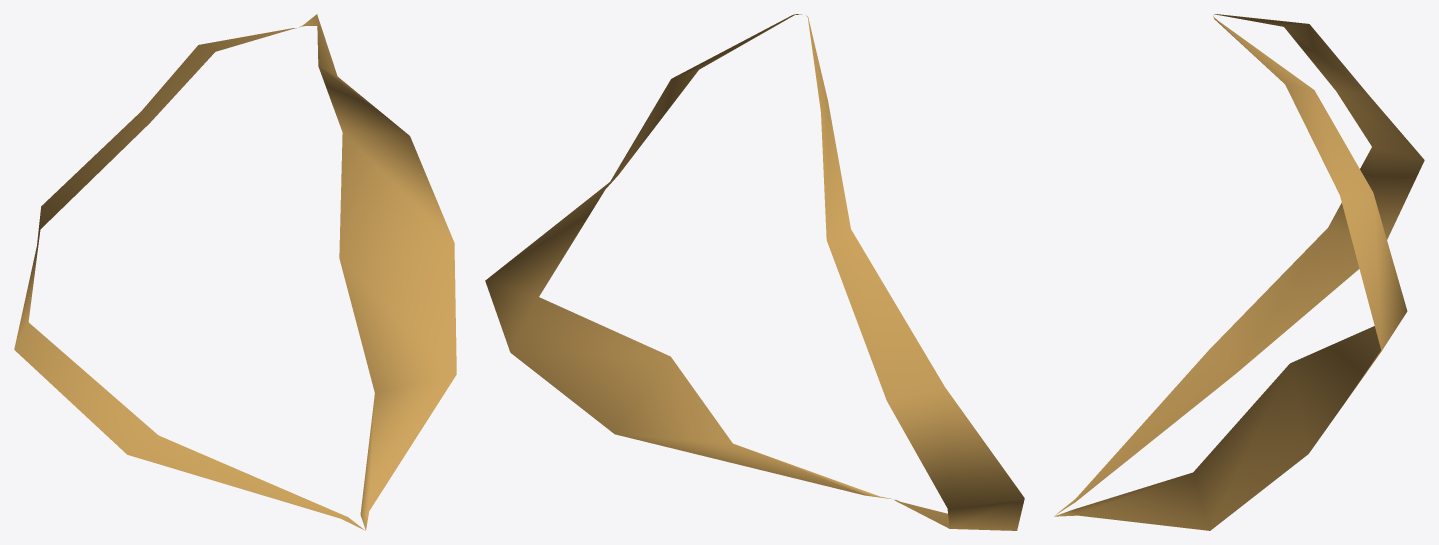
The model's file is abdomen_7_tergum.obj.
The picture shows the model from 3 angles, left to right: view 1: azimuth 30°, elevation 25°; view 2: azimuth 150°, elevation 25°; view 3: azimuth 270°, elevation 25°; orthographic projection. The views are drawn at different scales.
Size of the model in its own units: 0.0483 by 0.0481 by 0.0322.
